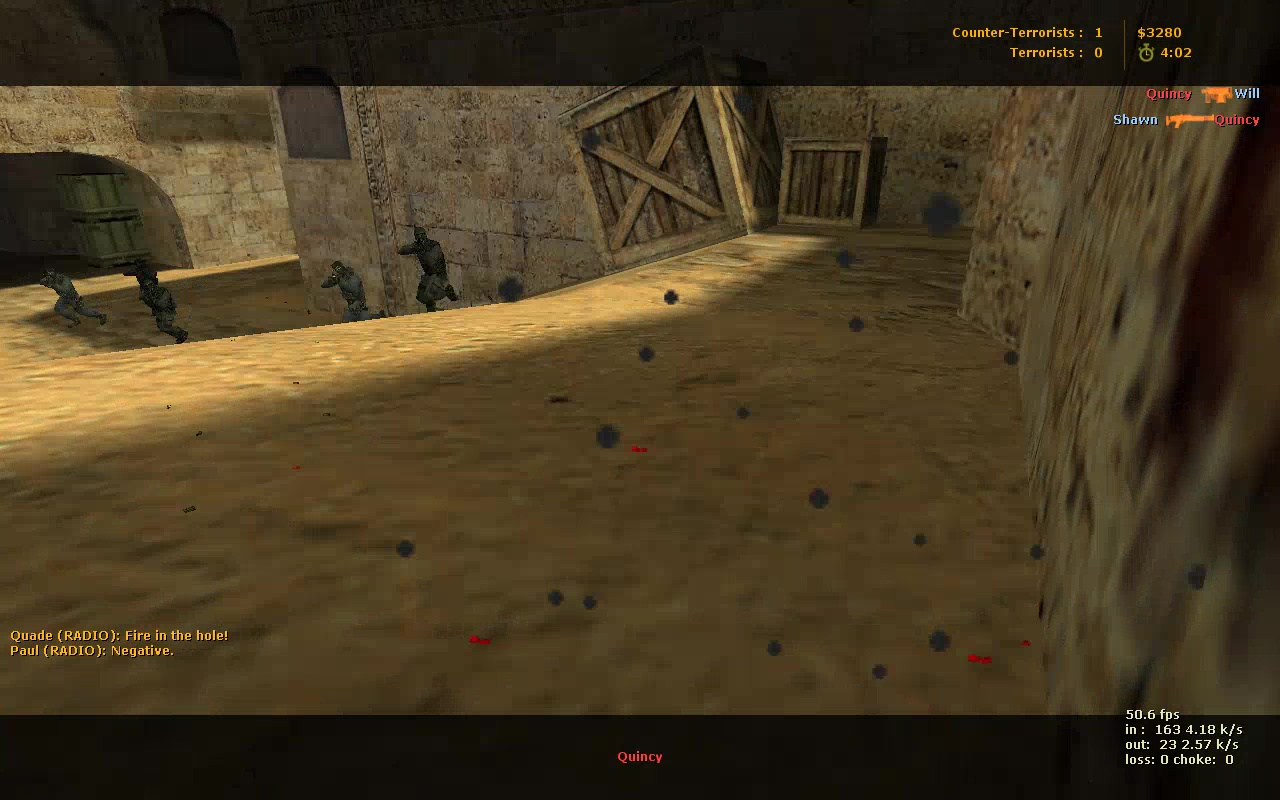ct: (398, 229, 461, 315), (39, 266, 110, 329), (320, 260, 386, 322), (143, 280, 188, 342)
